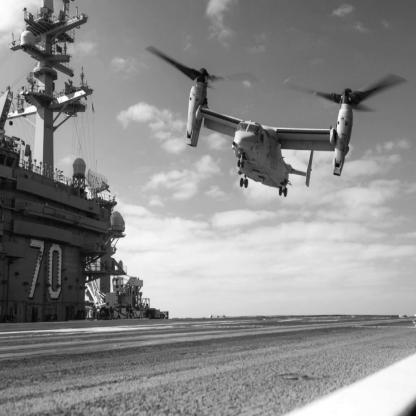V22: (146, 45, 410, 198)
